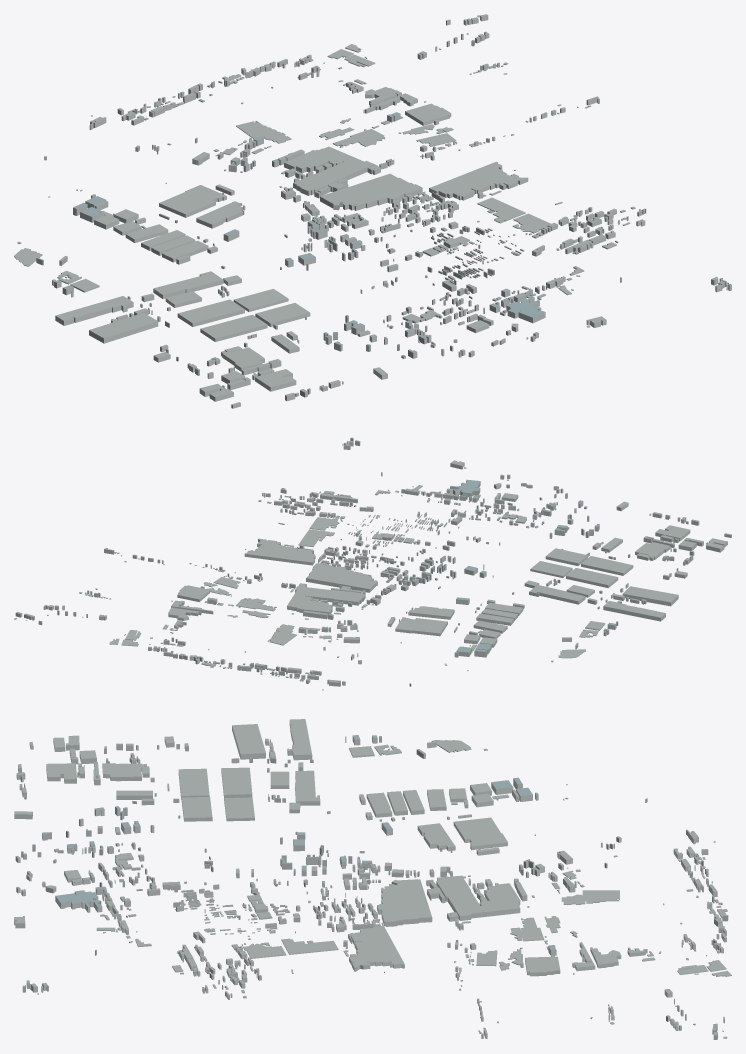
The model's file is far.glb.
3 renders of one model, top to bottom at view 1: azimuth 30°, elevation 25°; view 2: azimuth 150°, elevation 25°; view 3: azimuth 270°, elevation 25°, orthographic. The views are drawn at different scales.
Size of the model in its own units: 2208 by 24.9 by 2122.
